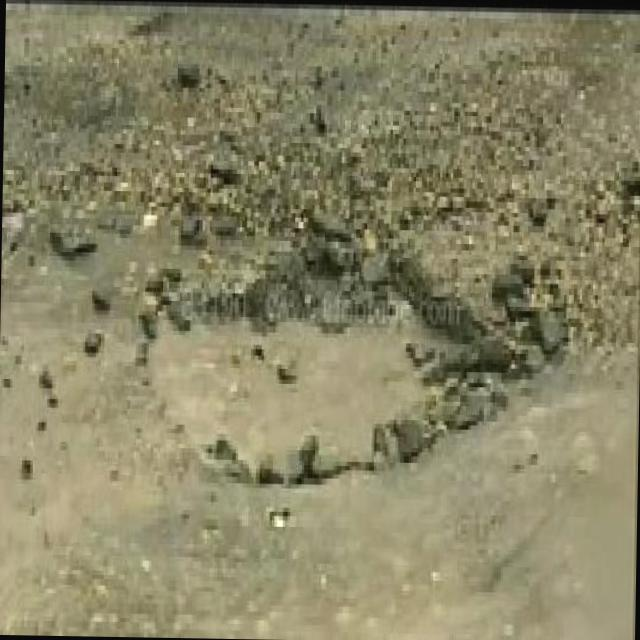Lubang: (139, 215, 527, 485)
